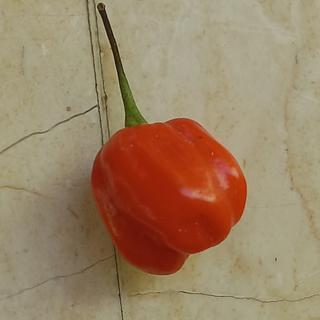Grade-B: (85, 112, 249, 277)
